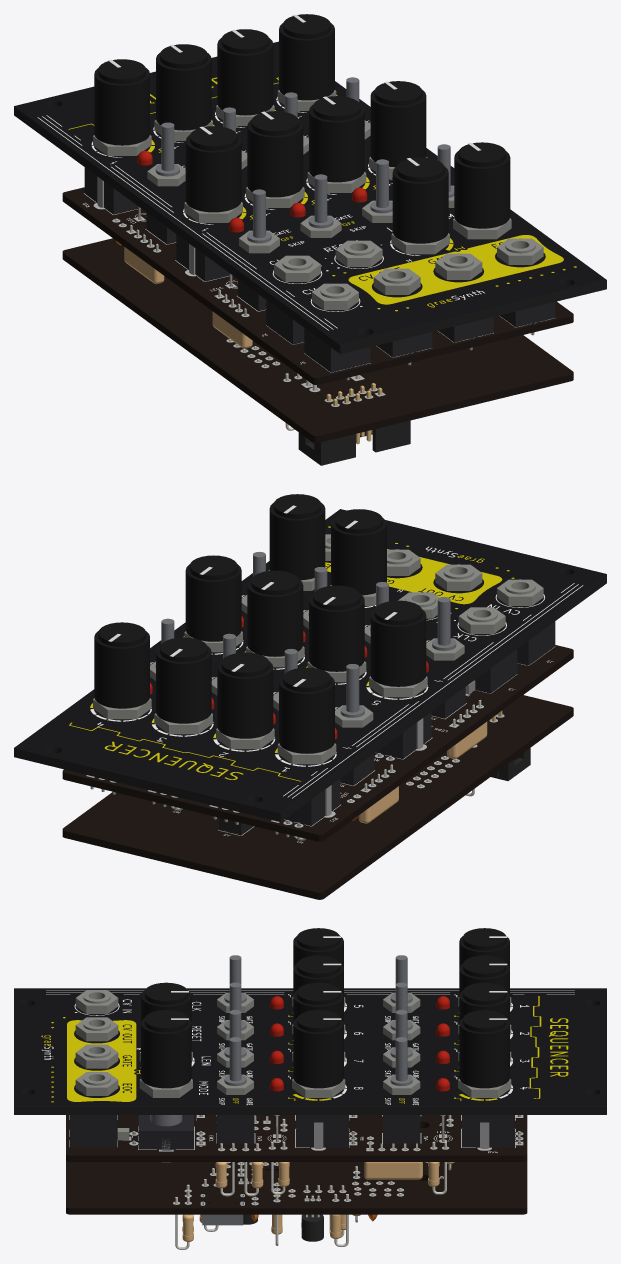
The model's file is d1-kit.glb.
3 renders of one model, top to bottom at view 1: azimuth 30°, elevation 25°; view 2: azimuth 150°, elevation 25°; view 3: azimuth 270°, elevation 25°, orthographic. The views are drawn at different scales.
Bounding box in the file's own units: 0.0606 × 0.0523 × 0.1285.
